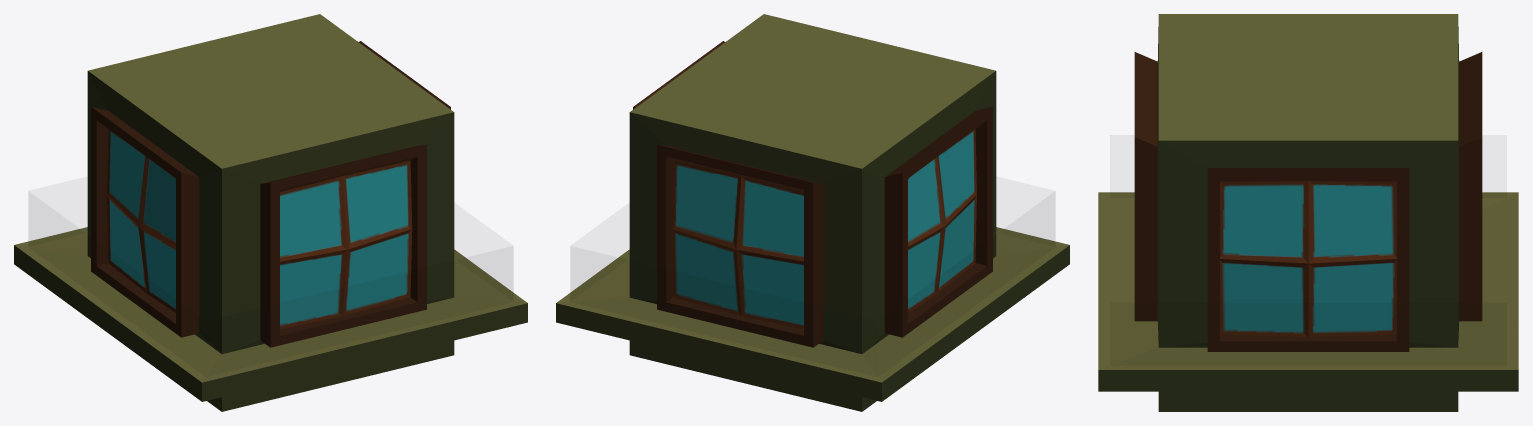
The model's file is building.glb.
3 renders of one model, left to right at view 1: azimuth 30°, elevation 25°; view 2: azimuth 150°, elevation 25°; view 3: azimuth 270°, elevation 25°, orthographic. The views are drawn at different scales.
Visible parts, largest first — view 1: Cube.001; view 2: Cube.001; view 3: Cube.001.
Boxes of the visible parts, x1,y1,x2,y2 form: Cube.001: (14, 14, 527, 411); Cube.001: (556, 14, 1069, 411); Cube.001: (1098, 14, 1518, 411).
Size of the model in its own units: 4.21 by 3 by 4.21.
1 material, 1 textured.
